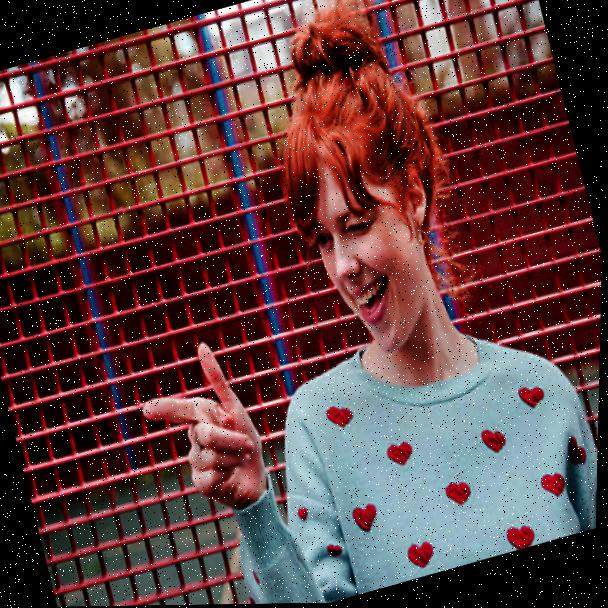five: (124, 328, 290, 534)
